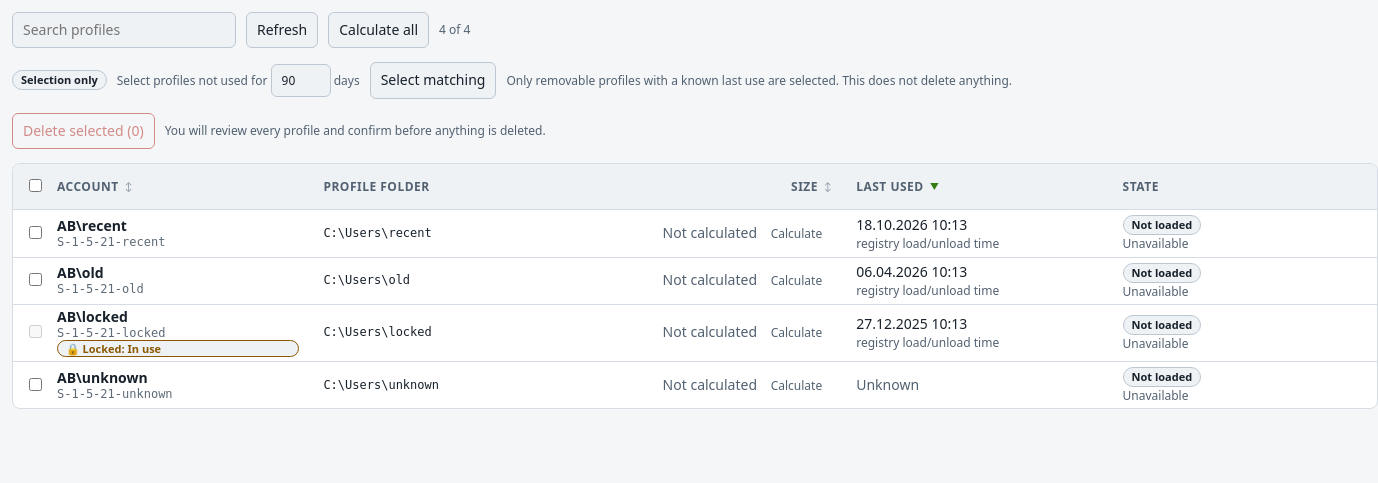
Scenario: Profiles tab › the age filter only selects matching deletable rows with a known last use, and never deletes
The image size is (1378, 483).
Expected: the text "AB\\old" is shown, 57,264 -> 104,282
Click the button "Select matching" at (433, 80), box 370,62 -> 496,99
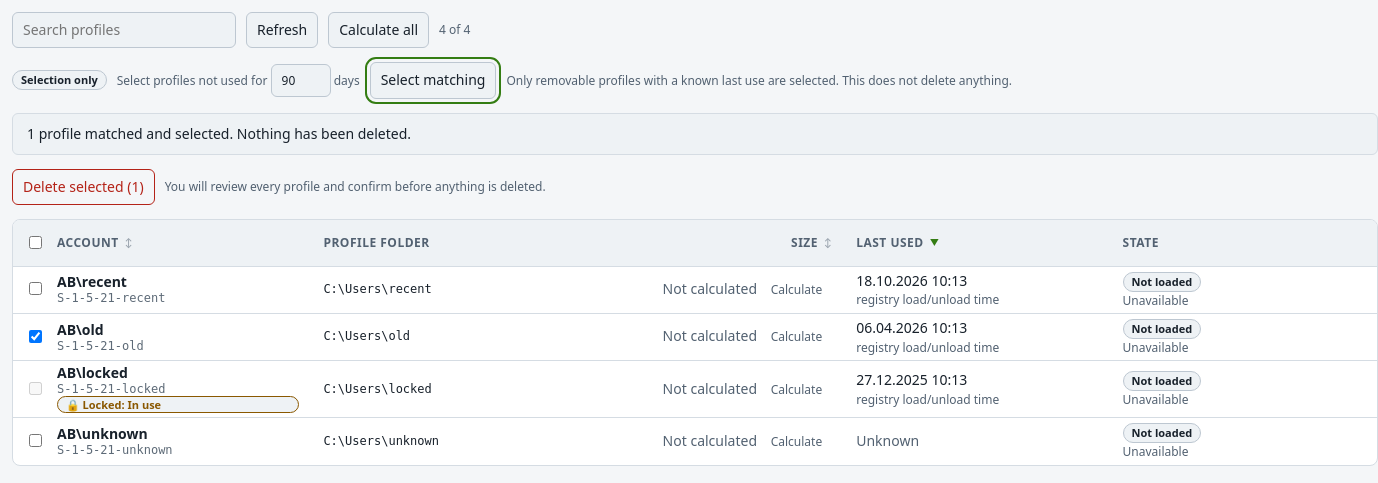
Now the checkbox named "Select AB\\old" is checked, box 29,330 -> 42,342
Now the text "1 profile matched and selected. Nothing has been deleted." is shown, box 12,113 -> 1377,155
Now the button "Delete selected (1)" is shown, box 12,169 -> 155,205
